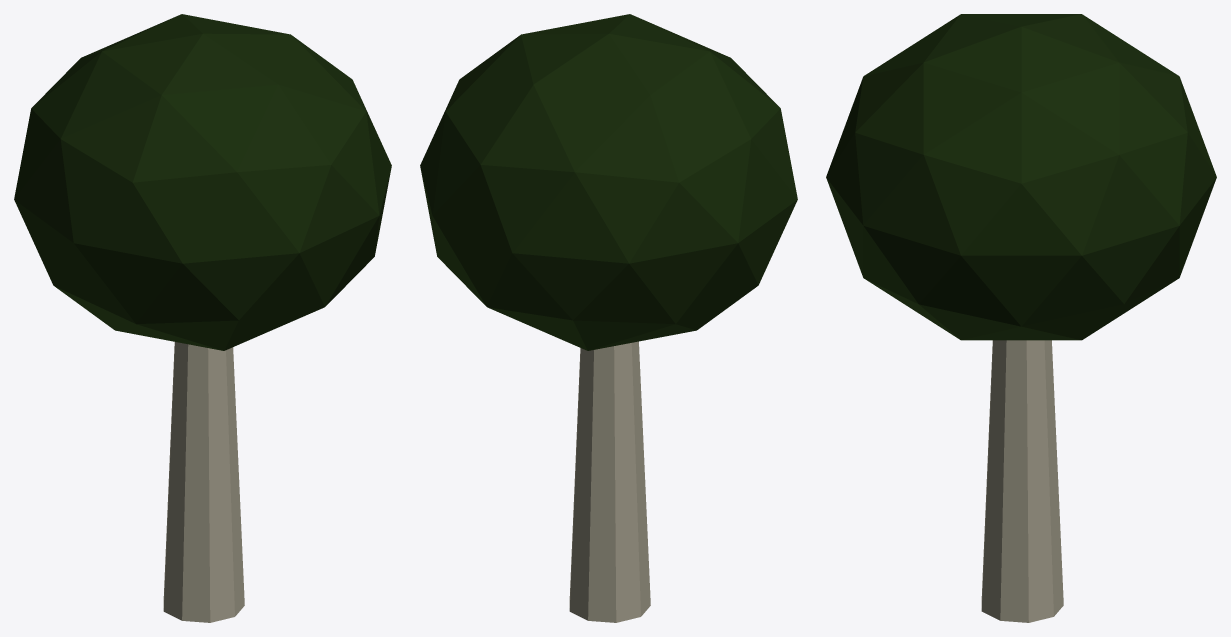
File: SM_Tree_01_birch_whitetrunk.fbx
3 views of the same model, side by side, from view 1: azimuth 30°, elevation 25°; view 2: azimuth 150°, elevation 25°; view 3: azimuth 270°, elevation 25° (orthographic).
Visible parts, largest first — view 1: SM_Tree_01; view 2: SM_Tree_01; view 3: SM_Tree_01.
Boxes of the visible parts, x1=… form: SM_Tree_01: x1=14, y1=14, x2=391, y2=622; SM_Tree_01: x1=420, y1=14, x2=797, y2=622; SM_Tree_01: x1=826, y1=14, x2=1216, y2=622.
Bounding box in the file's own units: 114 × 196 × 120.
